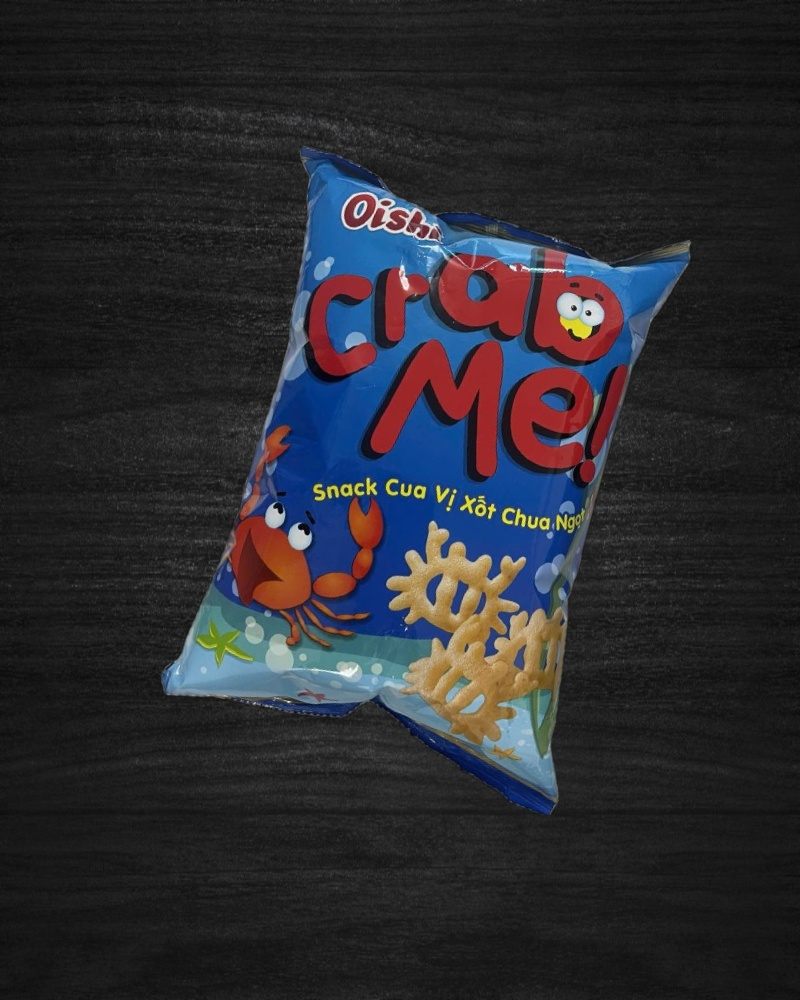Snack chay: (150, 138, 707, 820)
